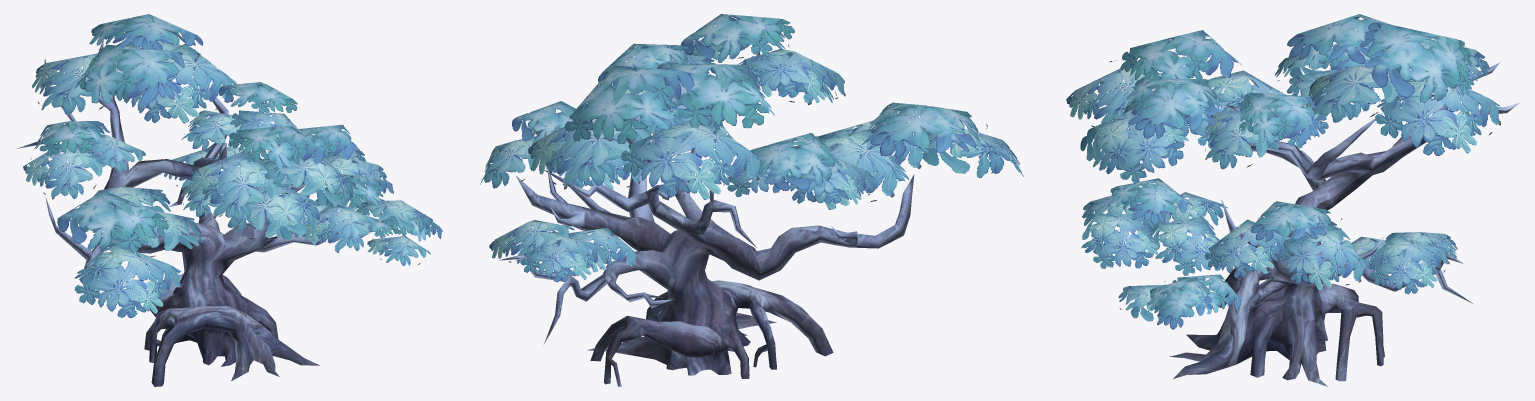
Rendered from Map_10_ tree02.FBX.
3 renders of one model, left to right at view 1: azimuth 30°, elevation 25°; view 2: azimuth 150°, elevation 25°; view 3: azimuth 270°, elevation 25°, orthographic. The views are drawn at different scales.
Parts seen in each view (by area): view 1: Map_10_ tree02a, Map_10_ tree02b; view 2: Map_10_ tree02a, Map_10_ tree02b; view 3: Map_10_ tree02a, Map_10_ tree02b.
Part boxes in pixels (x1=…): Map_10_ tree02a: x1=23, y1=14, x2=442, y2=317; Map_10_ tree02b: x1=16, y1=40, x2=349, y2=386; Map_10_ tree02a: x1=480, y1=14, x2=1023, y2=282; Map_10_ tree02b: x1=499, y1=89, x2=914, y2=386; Map_10_ tree02a: x1=1066, y1=14, x2=1500, y2=329; Map_10_ tree02b: x1=1169, y1=62, x2=1519, y2=386.
Size of the model in its own units: 672 by 619 by 454.
Materials: 2 (2 with a texture image).
